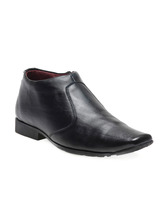shoes: (11, 65, 157, 156)
